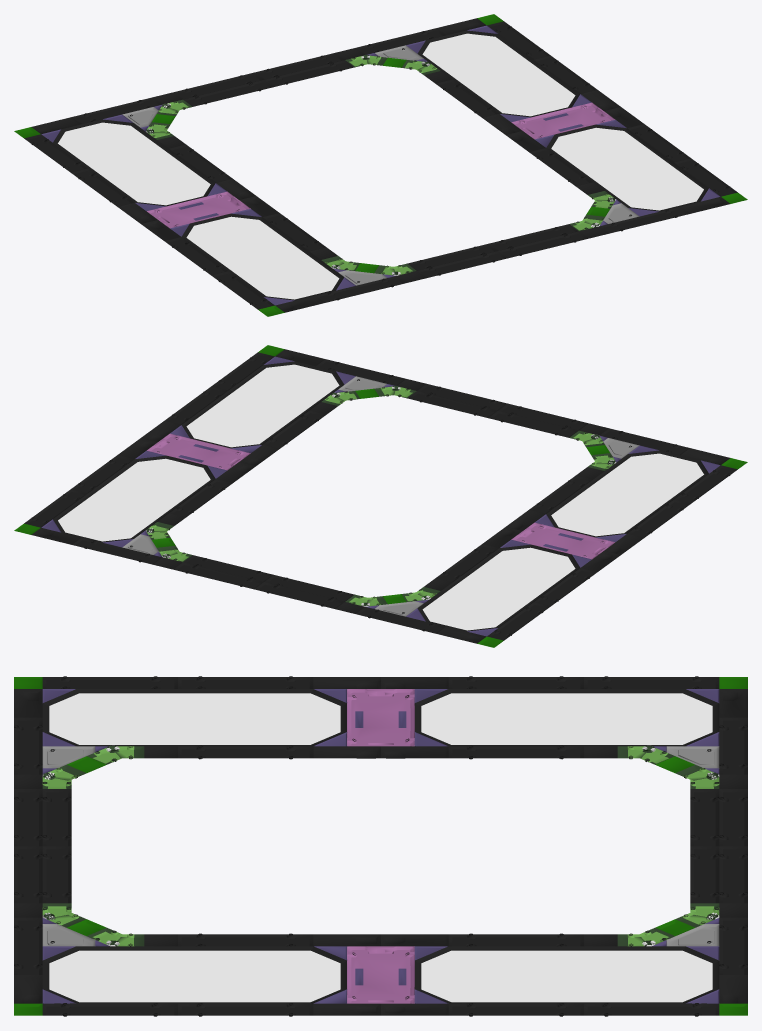
Rendered from Building_B_Room_A_Ceiling_A.fbx.
3 views of the same model, one above another, from view 1: azimuth 30°, elevation 25°; view 2: azimuth 150°, elevation 25°; view 3: azimuth 270°, elevation 25° (orthographic). The views are drawn at different scales.
Visible parts, largest first — view 1: Geom_Building_B_Room_A_Ceiling_A_LOD00; view 2: Geom_Building_B_Room_A_Ceiling_A_LOD00; view 3: Geom_Building_B_Room_A_Ceiling_A_LOD00.
Boxes of the visible parts, <box> form: Geom_Building_B_Room_A_Ceiling_A_LOD00: <box>14,14,747,316</box>; Geom_Building_B_Room_A_Ceiling_A_LOD00: <box>14,345,747,647</box>; Geom_Building_B_Room_A_Ceiling_A_LOD00: <box>14,676,747,1016</box>.
Size of what is drawn, in the model's own units: 4740 by 32.59 by 4340.
